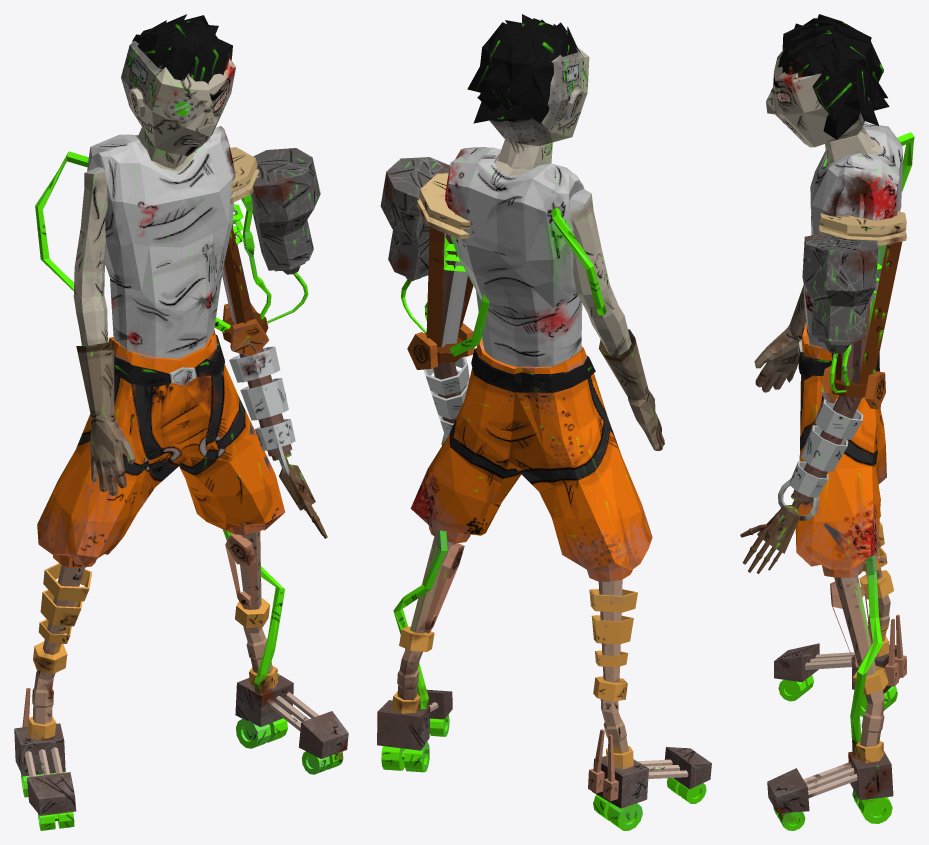
The model's file is CyborgFINALAnimation_000034.obj.
3 views of the same model, side by side, from view 1: azimuth 30°, elevation 25°; view 2: azimuth 150°, elevation 25°; view 3: azimuth 270°, elevation 25° (orthographic). The views are drawn at different scales.
Parts seen in each view (by area): view 1: CyborgMesh_Cube.002; view 2: CyborgMesh_Cube.002; view 3: CyborgMesh_Cube.002.
Part boxes in pixels (left/top/right/bottom): CyborgMesh_Cube.002: left=14, top=14, right=348, bottom=830; CyborgMesh_Cube.002: left=377, top=14, right=711, bottom=830; CyborgMesh_Cube.002: left=740, top=14, right=914, bottom=830.
Bounding box in the file's own units: 3.99 × 9.62 × 2.04.
